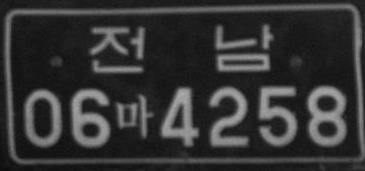0: (22, 88, 63, 150)
2: (207, 85, 250, 149)
4: (159, 85, 199, 147)
5: (257, 84, 300, 148)
6: (69, 87, 112, 149)
8: (307, 84, 348, 148)
마: (115, 92, 154, 140)
전남_D: (88, 22, 275, 75)
